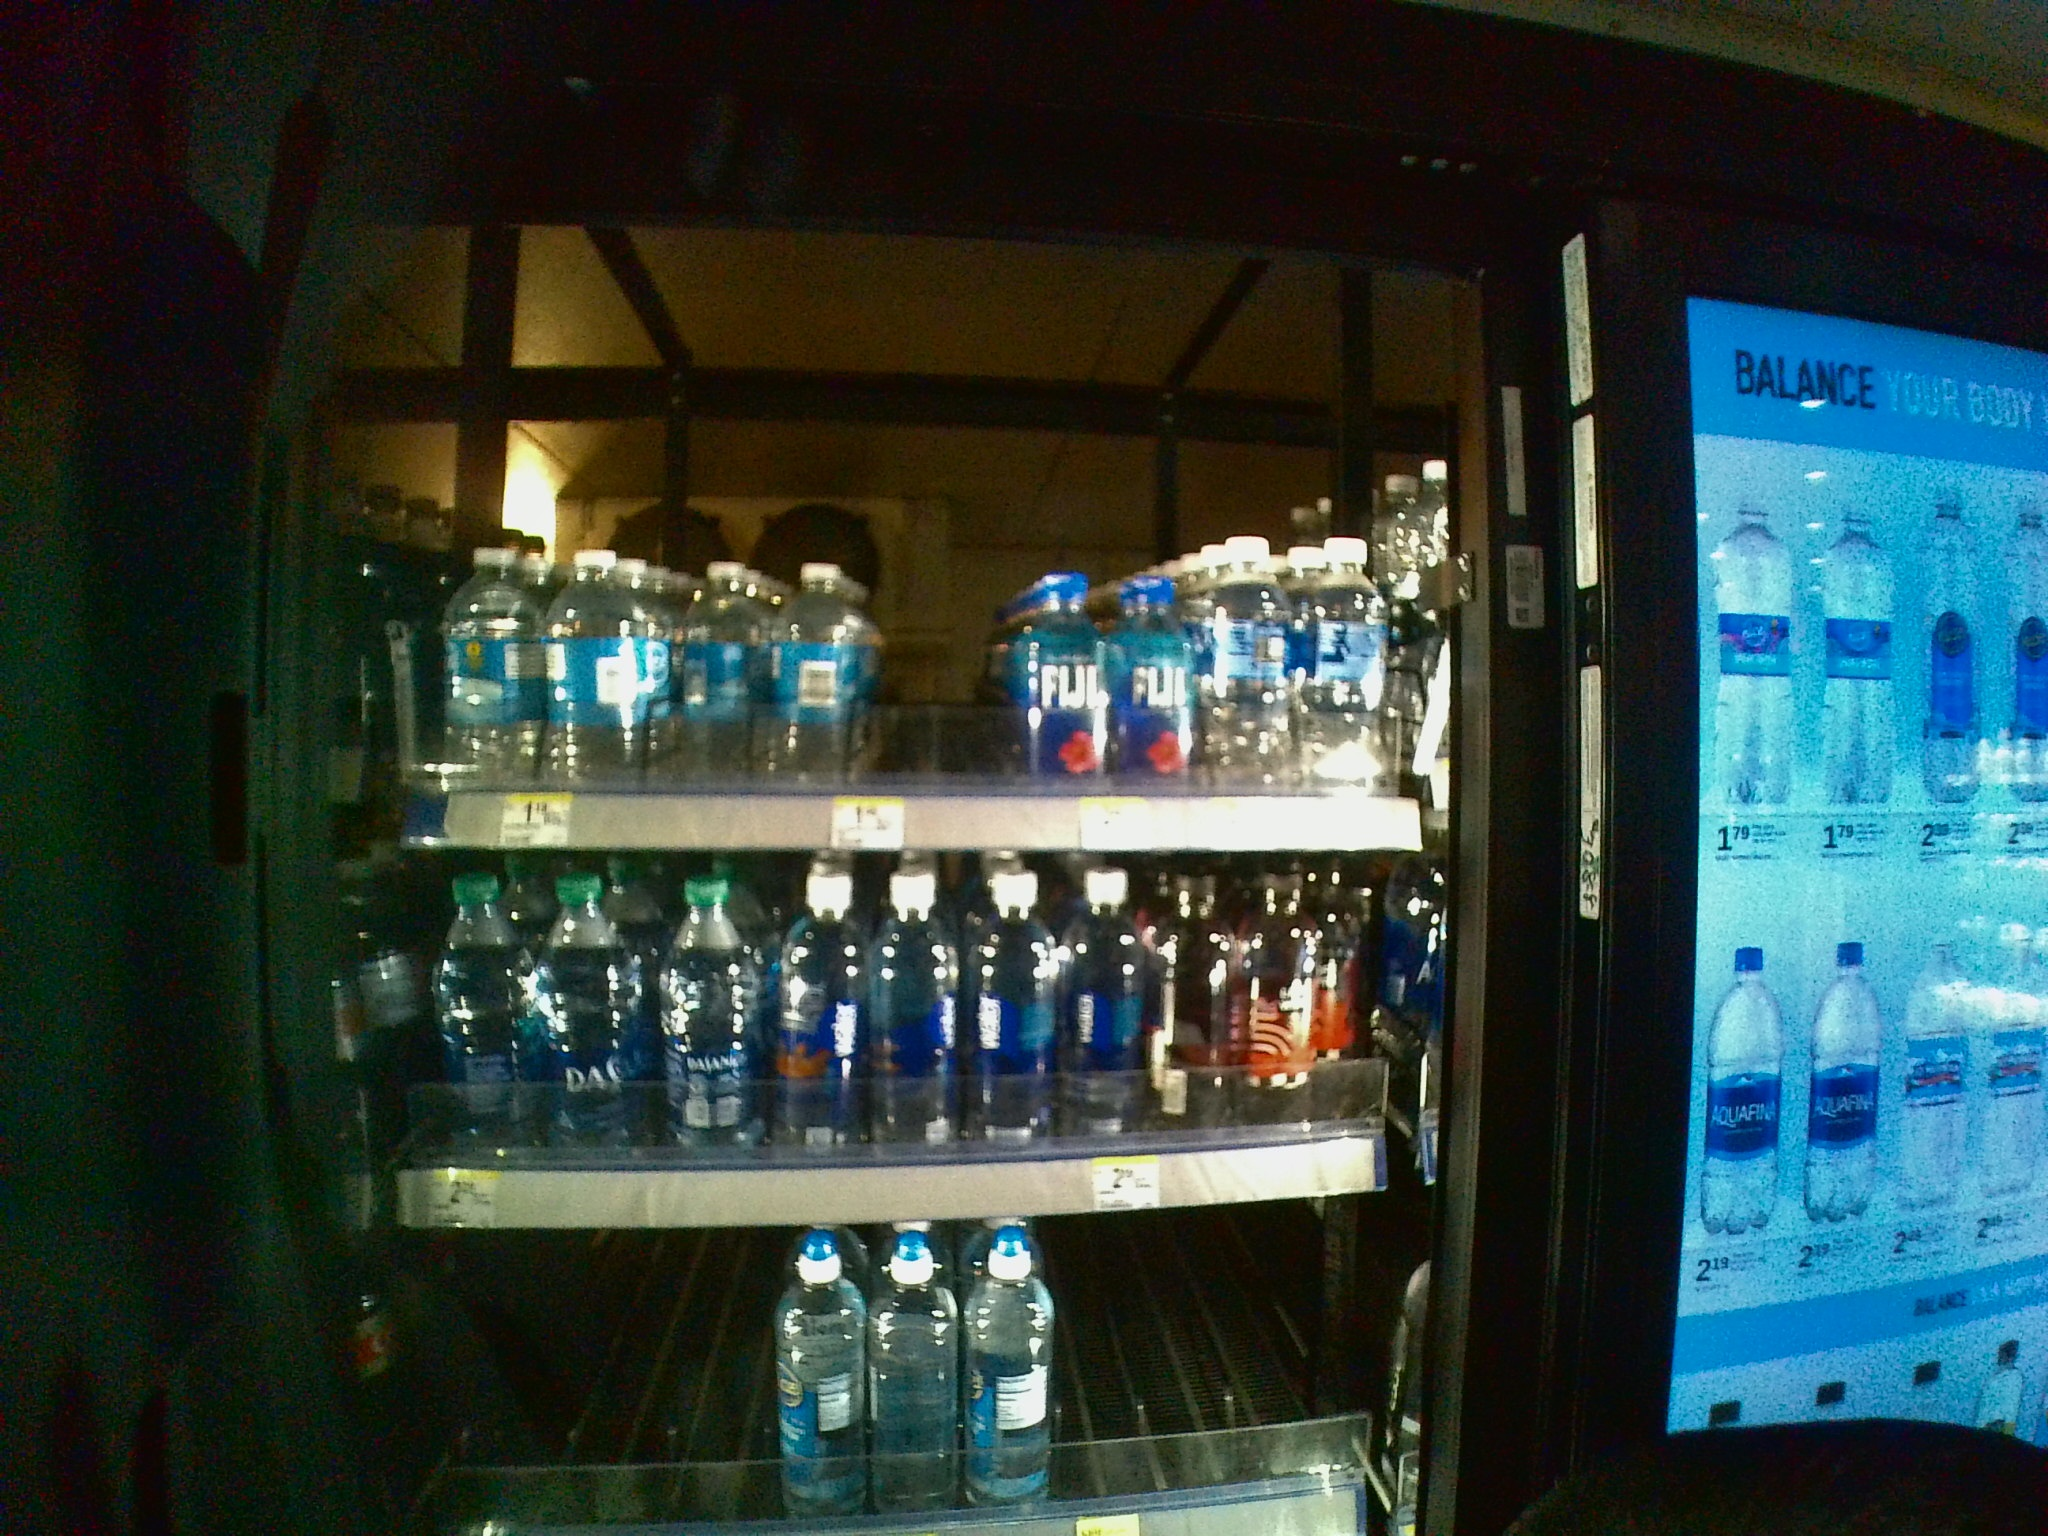shelf: (376, 357, 1485, 854), (374, 858, 1485, 1231)
